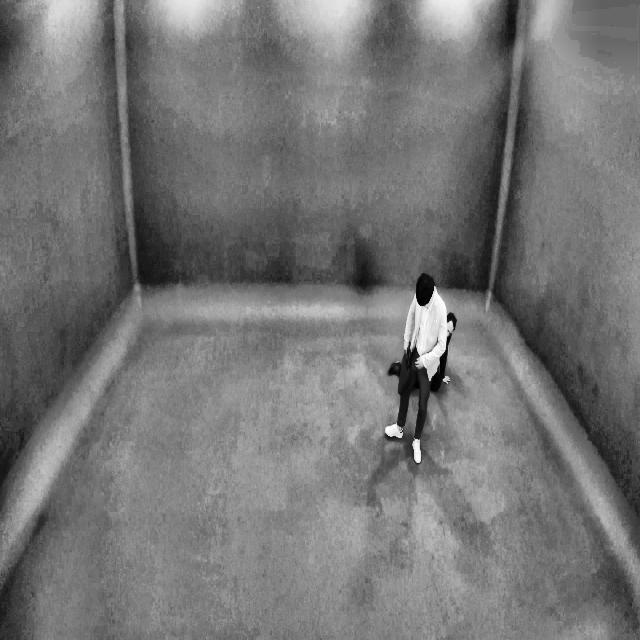assult: (376, 231, 459, 471)
